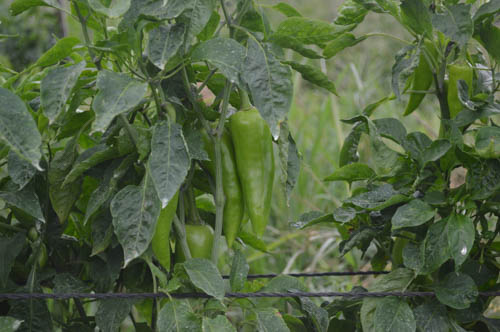ChiliPepper: (232, 112, 278, 238), (203, 129, 239, 241), (176, 224, 216, 283), (403, 45, 436, 116), (449, 66, 476, 118)
